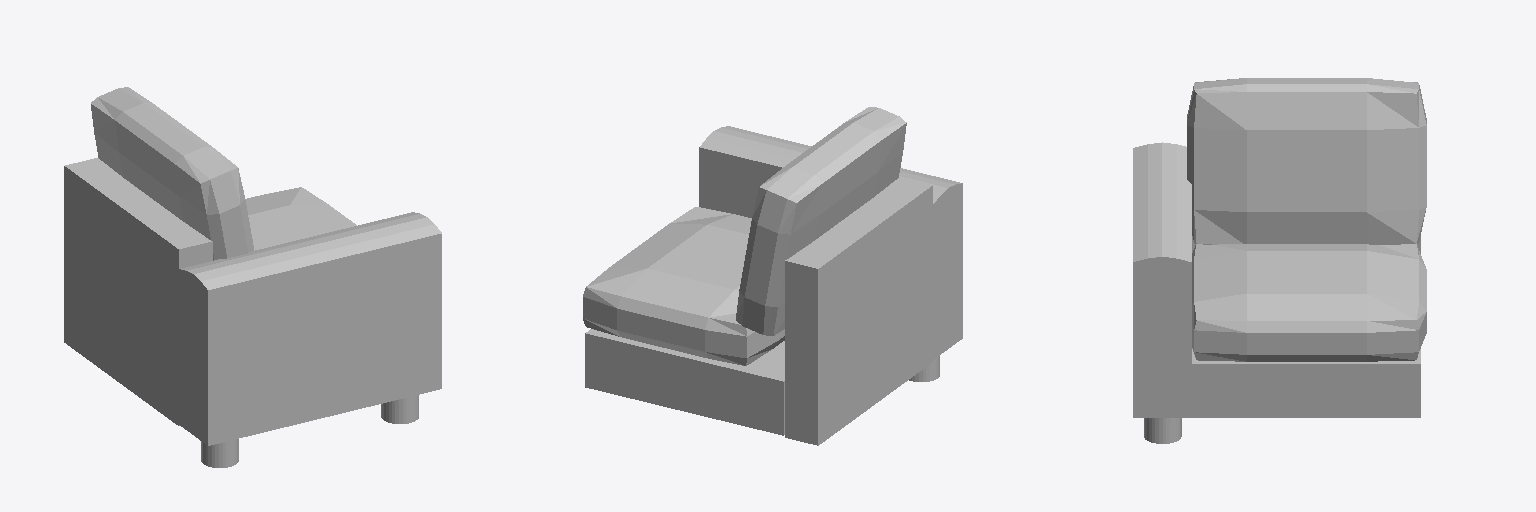
The model's file is simple_single_sofa_2.obj.
3 views of the same model, side by side, from view 1: azimuth 30°, elevation 25°; view 2: azimuth 150°, elevation 25°; view 3: azimuth 270°, elevation 25° (orthographic).
Parts seen in each view (by area): view 1: Cube.001, Cube.004, Cube.005, Cube.002, Cylinder.003, Cylinder; view 2: Cube.004, Cube.002, Cube.005, Cube, Cube.001; view 3: Cube.005, Cube.002, Cube.001, Cube, Cylinder.
Boxes of the visible parts, x1=… form: Cube.001: x1=179, y1=212, x2=441, y2=445; Cube.004: x1=64, y1=158, x2=212, y2=425; Cube.005: x1=91, y1=87, x2=253, y2=260; Cube.002: x1=245, y1=187, x2=356, y2=250; Cylinder.003: x1=201, y1=439, x2=238, y2=467; Cylinder: x1=381, y1=395, x2=418, y2=423; Cube.004: x1=785, y1=177, x2=932, y2=445; Cube.002: x1=583, y1=207, x2=784, y2=365; Cube.005: x1=736, y1=107, x2=906, y2=335; Cube: x1=585, y1=329, x2=784, y2=435; Cube.001: x1=699, y1=126, x2=962, y2=359; Cube.005: x1=1187, y1=78, x2=1426, y2=244; Cube.002: x1=1192, y1=244, x2=1426, y2=361; Cube.001: x1=1133, y1=142, x2=1191, y2=417; Cube: x1=1192, y1=349, x2=1420, y2=417; Cylinder: x1=1144, y1=418, x2=1181, y2=443.
Size of the model in its own units: 2.44 by 2.66 by 2.56.